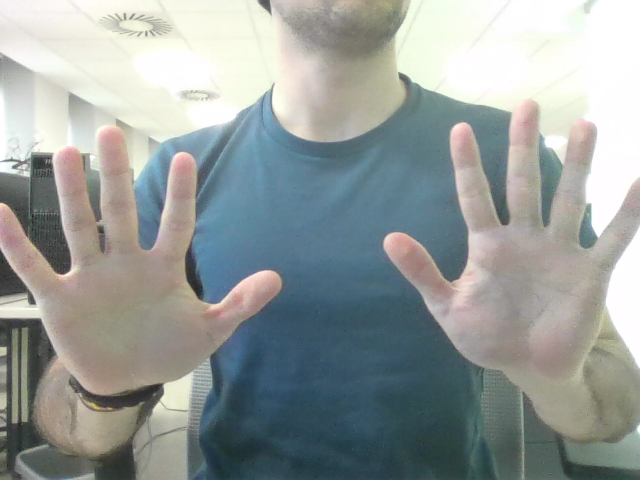Manos Arriba: (33, 126, 616, 344)
